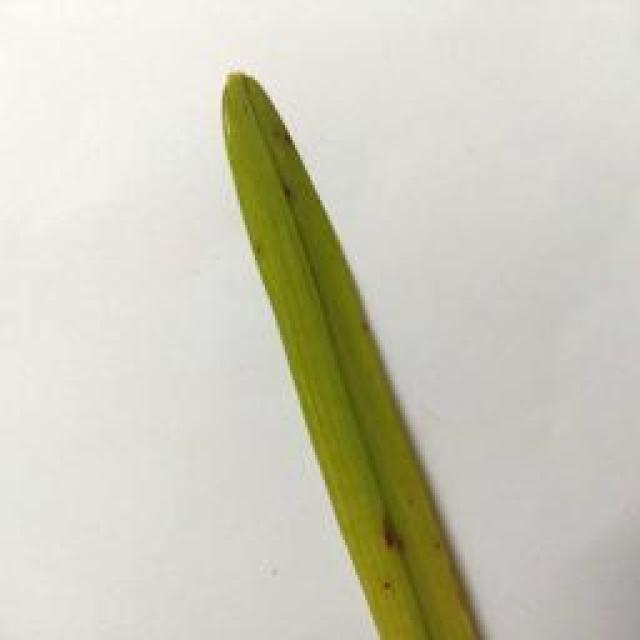Brown_Spot: (361, 506, 410, 562), (274, 125, 298, 150), (378, 576, 403, 600), (430, 532, 450, 560), (278, 179, 300, 204)
